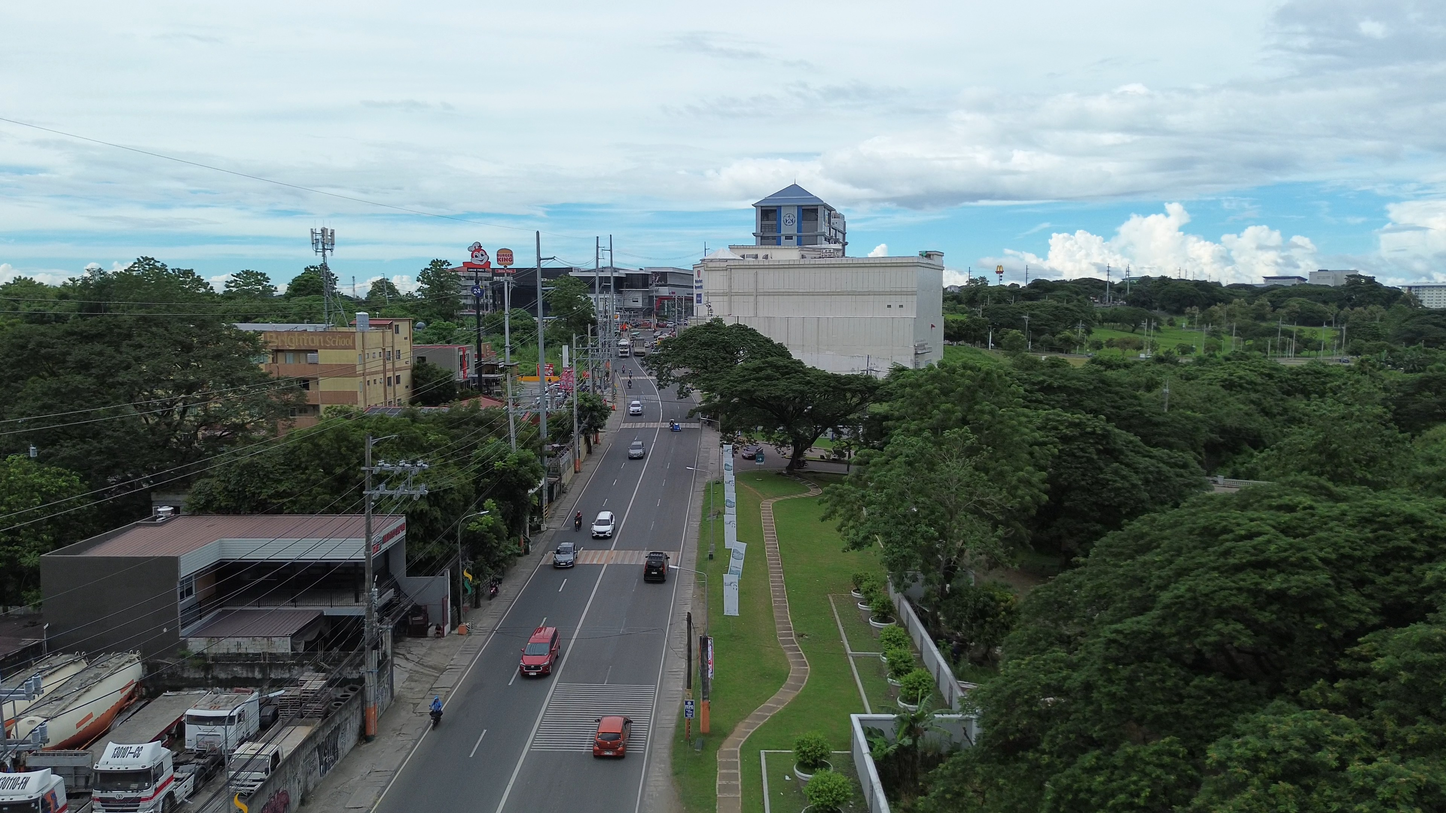car: (593, 715, 632, 757), (591, 510, 615, 537)
motorcycle: (487, 578, 499, 600), (430, 709, 442, 728), (574, 512, 582, 531)
truck: (92, 741, 204, 813), (632, 336, 649, 356)
vehicle: (12, 652, 142, 749), (92, 741, 198, 813), (0, 653, 88, 729), (228, 724, 314, 796), (185, 690, 259, 753), (0, 769, 67, 813), (519, 628, 560, 676), (643, 551, 669, 582), (553, 542, 579, 568), (628, 440, 645, 459), (633, 337, 649, 356), (628, 399, 643, 416), (429, 708, 441, 728), (618, 340, 631, 358)
